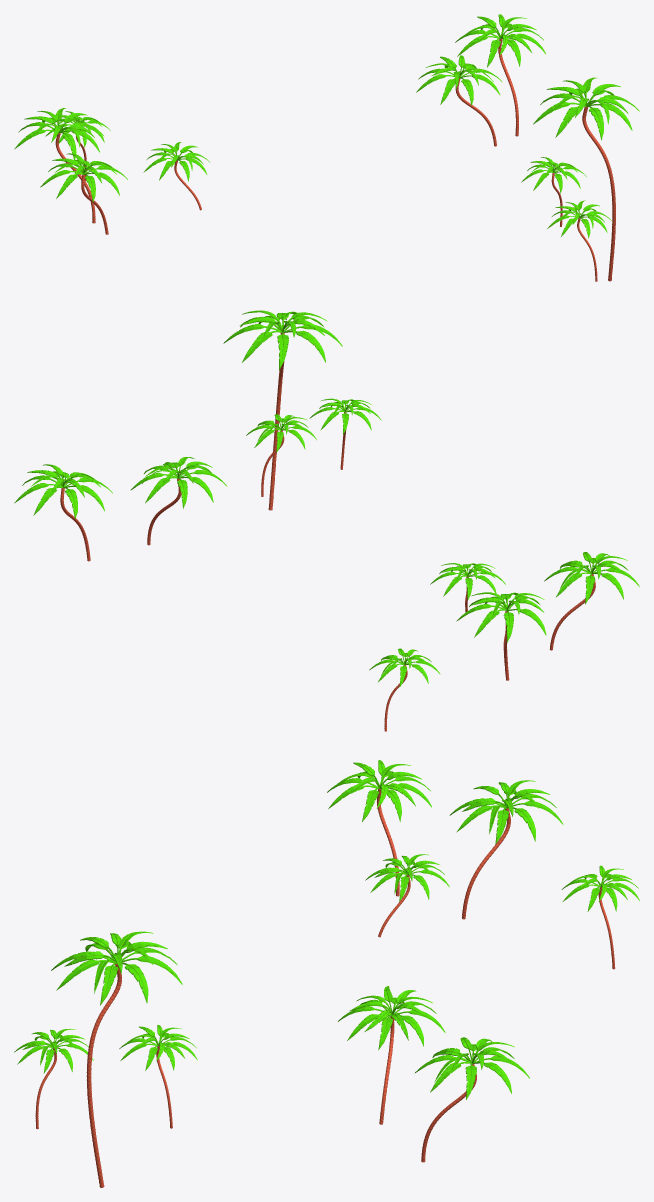
File: Trees.fbx
3 renders of one model, top to bottom at view 1: azimuth 30°, elevation 25°; view 2: azimuth 150°, elevation 25°; view 3: azimuth 270°, elevation 25°, orthographic. The views are drawn at different scales.
Parts seen in each view (by area): view 1: Cylinder.127; view 2: Cylinder.127; view 3: Cylinder.127.
Part boxes in pixels (<box>): Cylinder.127: <box>582,107,615,281</box>; Cylinder.127: <box>268,332,284,510</box>; Cylinder.127: <box>86,964,121,1187</box>.
Bounding box in the file's own units: 41572 × 14282 × 34549.
